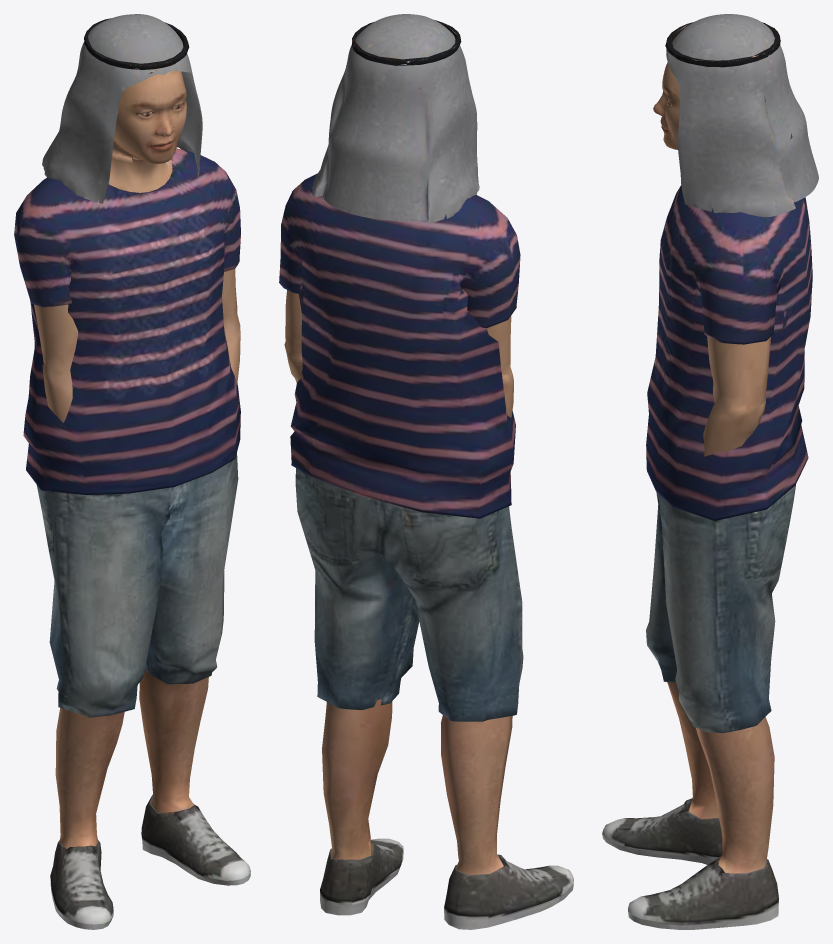
3 renders of one model, left to right at view 1: azimuth 30°, elevation 25°; view 2: azimuth 150°, elevation 25°; view 3: azimuth 270°, elevation 25°, orthographic. The views are drawn at different scales.
Visible parts, largest first — view 1: keffiyeh202610_w001; view 2: keffiyeh202610_w001; view 3: keffiyeh202610_w001.
Part boxes in pixels (x1,y1,x2,y2): keffiyeh202610_w001: [14, 14, 250, 929]; keffiyeh202610_w001: [279, 14, 573, 929]; keffiyeh202610_w001: [602, 14, 818, 929].
Size of the model in its own units: 0.4933 by 1.82 by 0.4116.
Materials: 1 (1 with a texture image).
